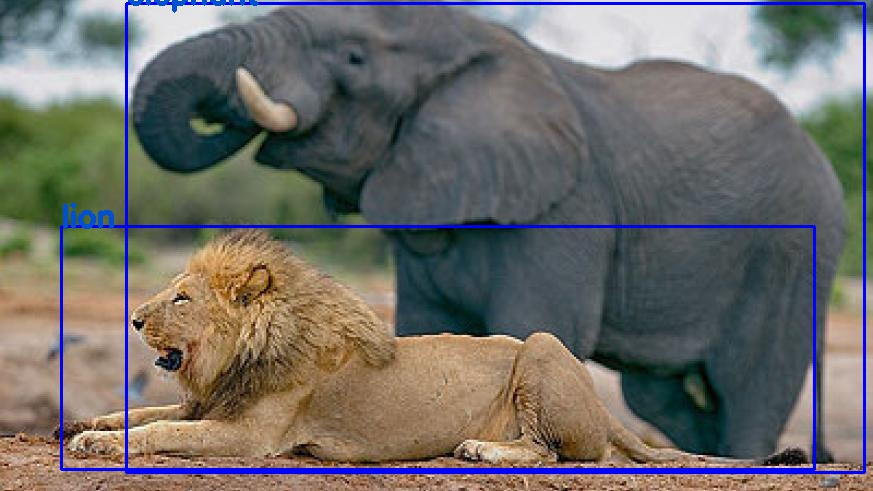elephant: (125, 3, 863, 472)
lion: (60, 225, 813, 468)
